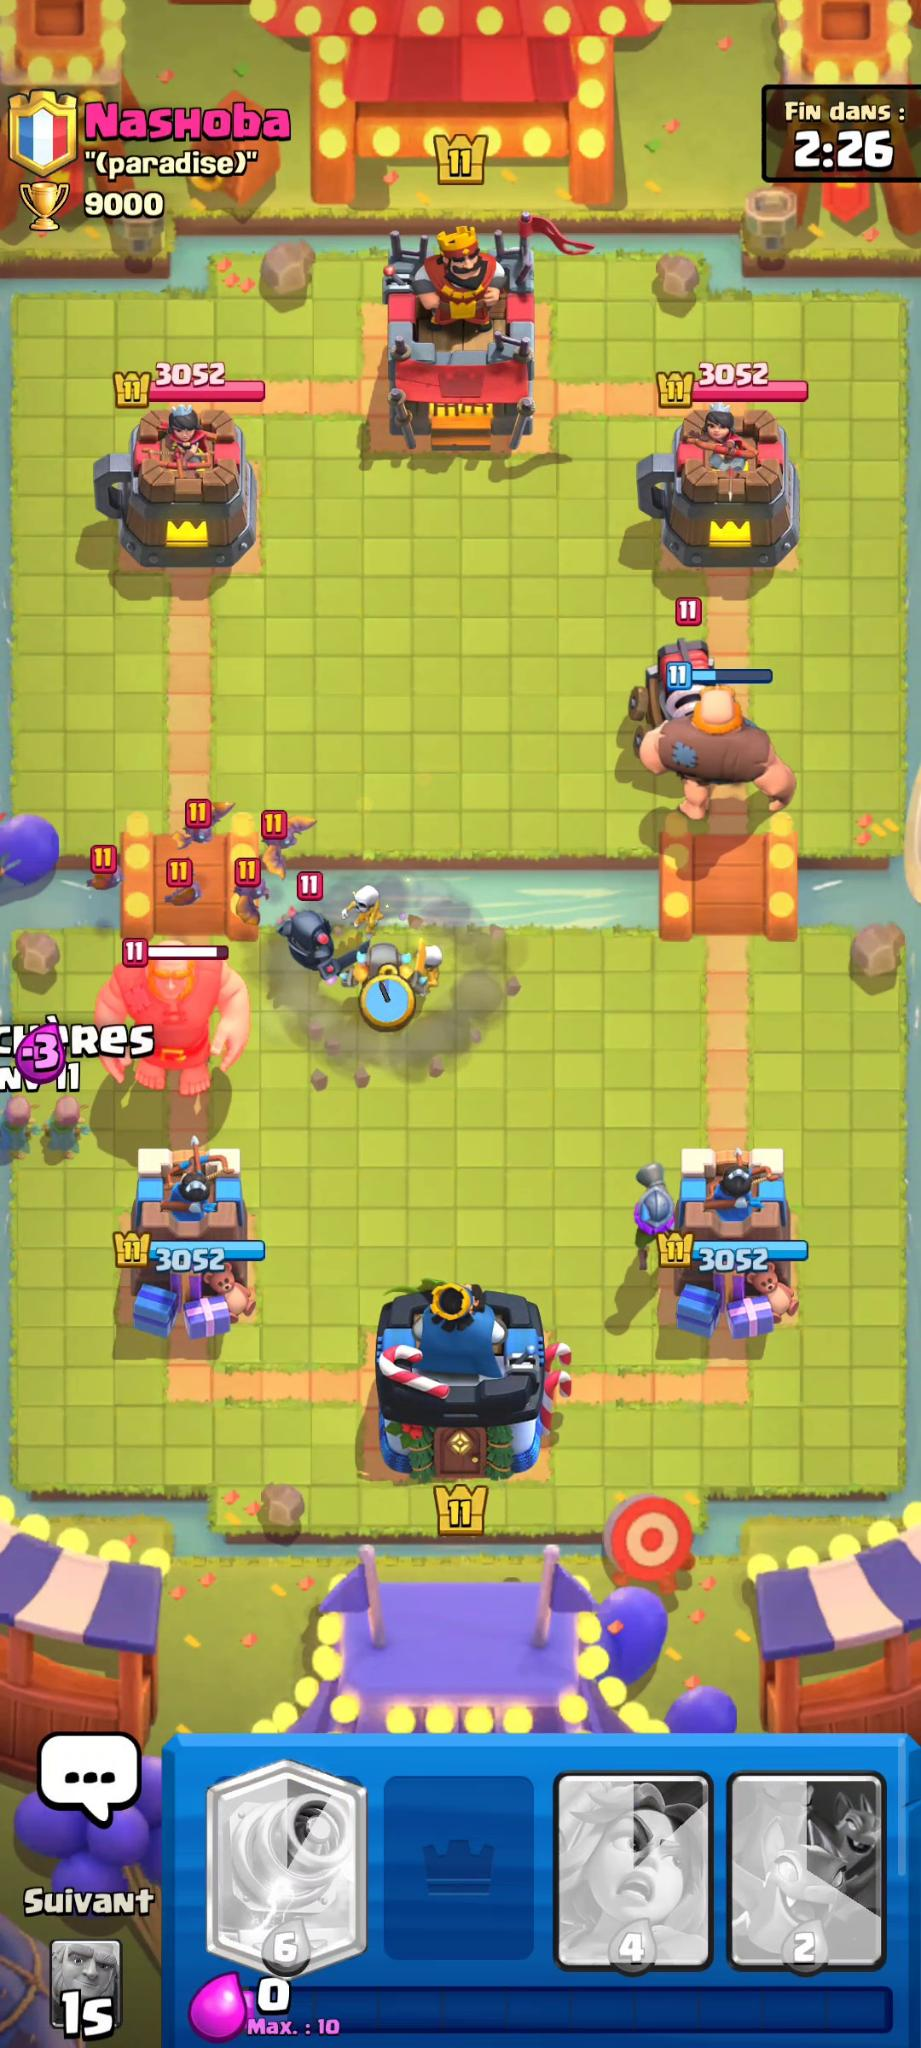archere: (48, 1088, 85, 1160), (0, 1096, 39, 1151)
bat: (162, 794, 263, 861), (77, 828, 132, 912), (222, 863, 280, 926), (166, 854, 204, 920), (269, 803, 303, 867)
geant: (90, 939, 272, 1123), (661, 671, 784, 833)
mini_PEKKA: (269, 884, 354, 987), (361, 946, 409, 1025)
squelette: (414, 935, 449, 1004), (341, 884, 395, 926)
zappy: (644, 628, 722, 742)
